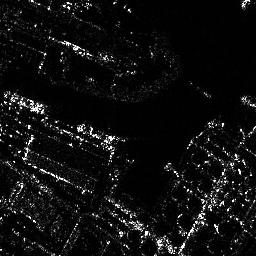ship: (1, 88, 50, 115), (76, 124, 126, 144)
